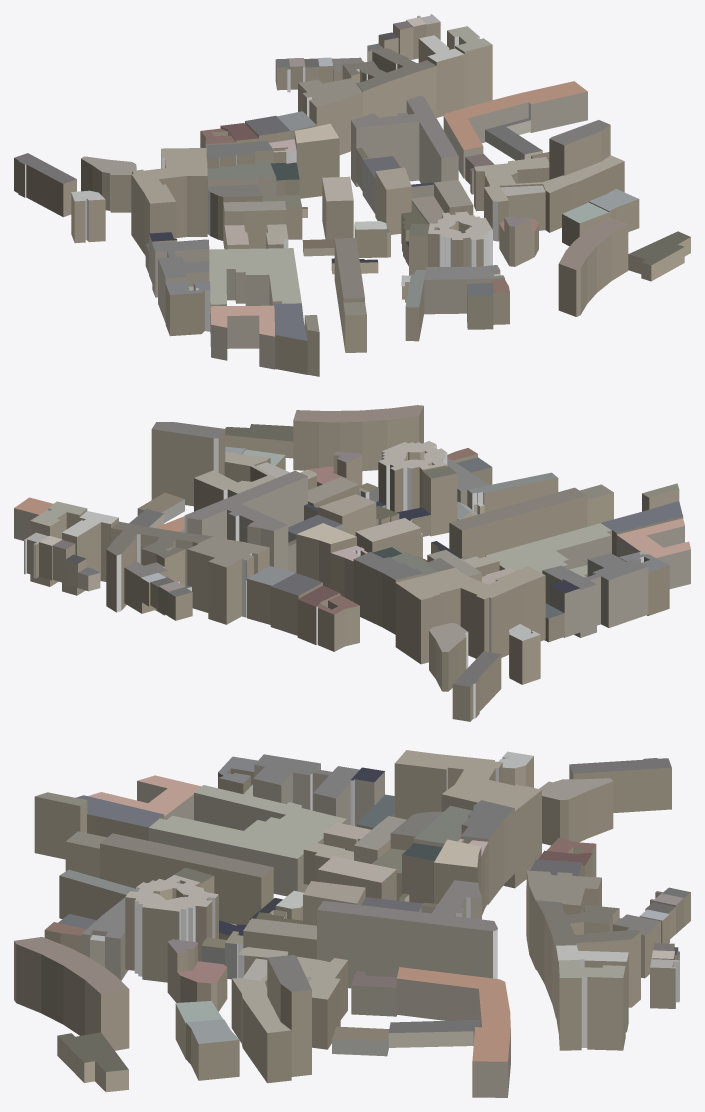
3 views of the same model, one above another, from view 1: azimuth 30°, elevation 25°; view 2: azimuth 150°, elevation 25°; view 3: azimuth 270°, elevation 25° (orthographic). The views are drawn at different scales.
Parts seen in each view (by area): view 1: tuile; view 2: tuile; view 3: tuile.
Part boxes in pixels (x1=…): tuile: x1=14, y1=14, x2=690, y2=376; tuile: x1=14, y1=405, x2=690, y2=721; tuile: x1=14, y1=750, x2=690, y2=1097.
Bounding box in the file's own units: 302 × 50.9 × 273.
